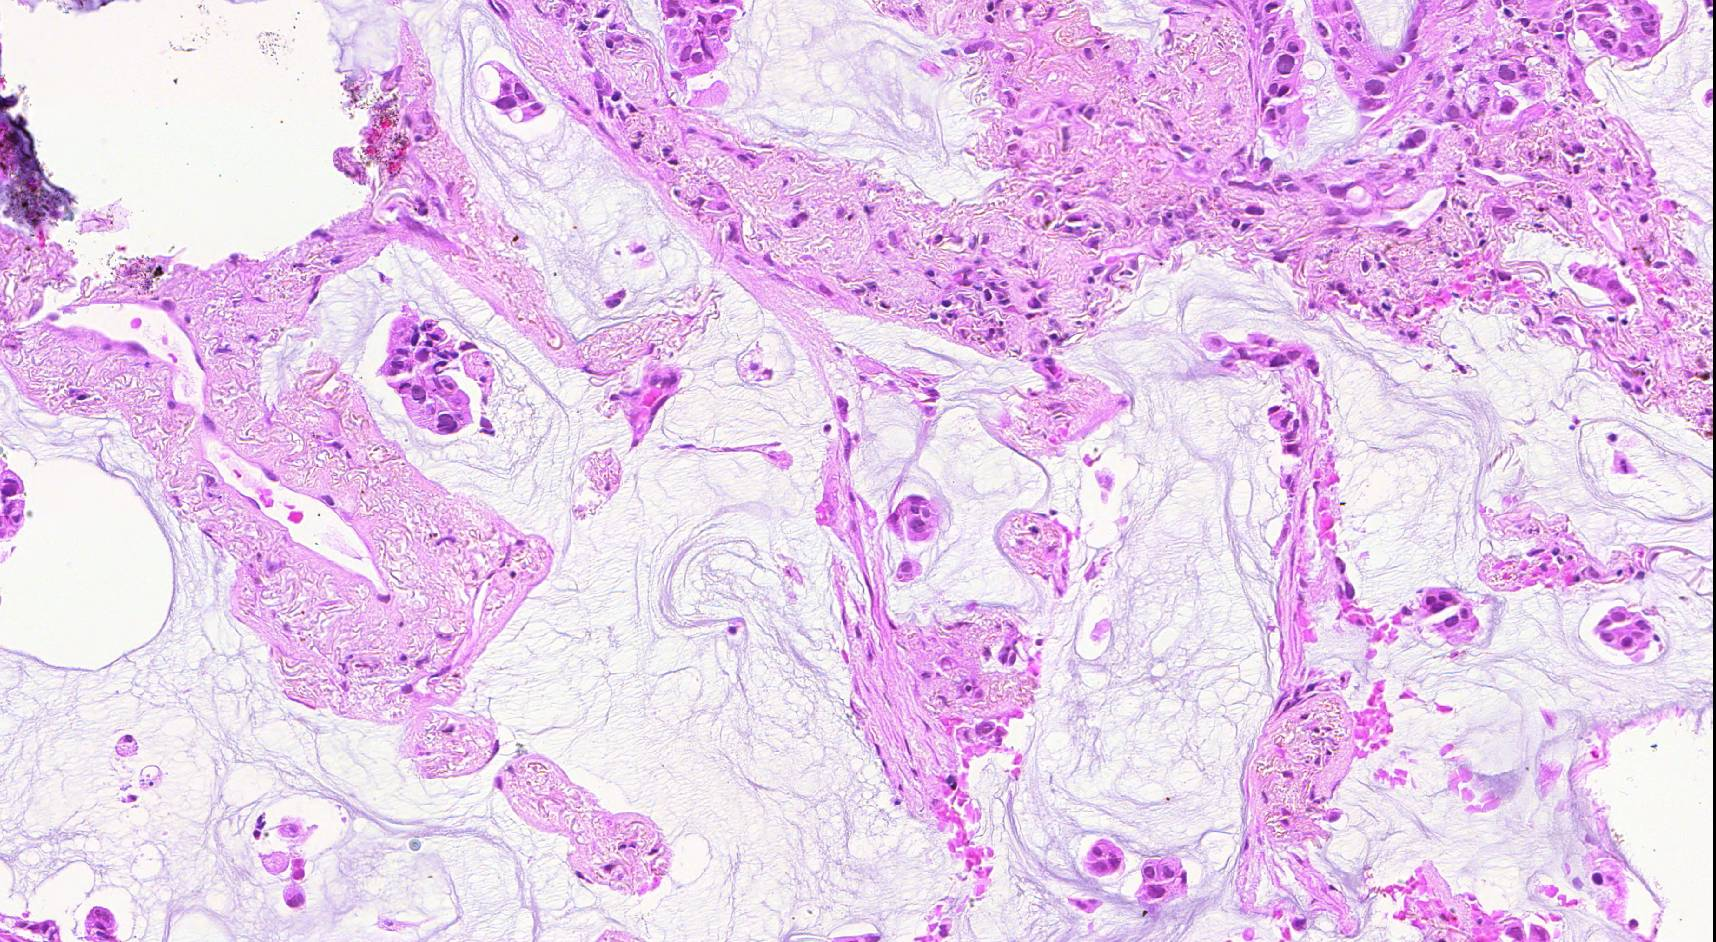stas: (384, 305, 499, 439), (1400, 576, 1484, 649), (477, 57, 551, 127), (1590, 601, 1661, 659), (884, 488, 947, 544), (1135, 854, 1195, 910), (1077, 839, 1134, 885)
